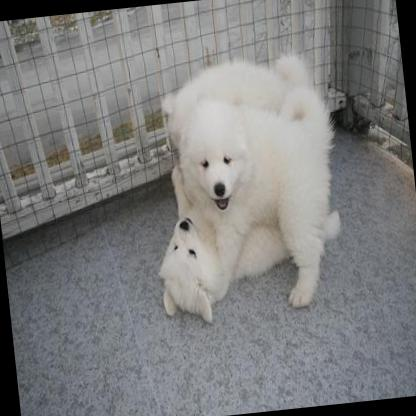Samoyed: (171, 81, 352, 318), (148, 142, 352, 326), (154, 48, 318, 157)
